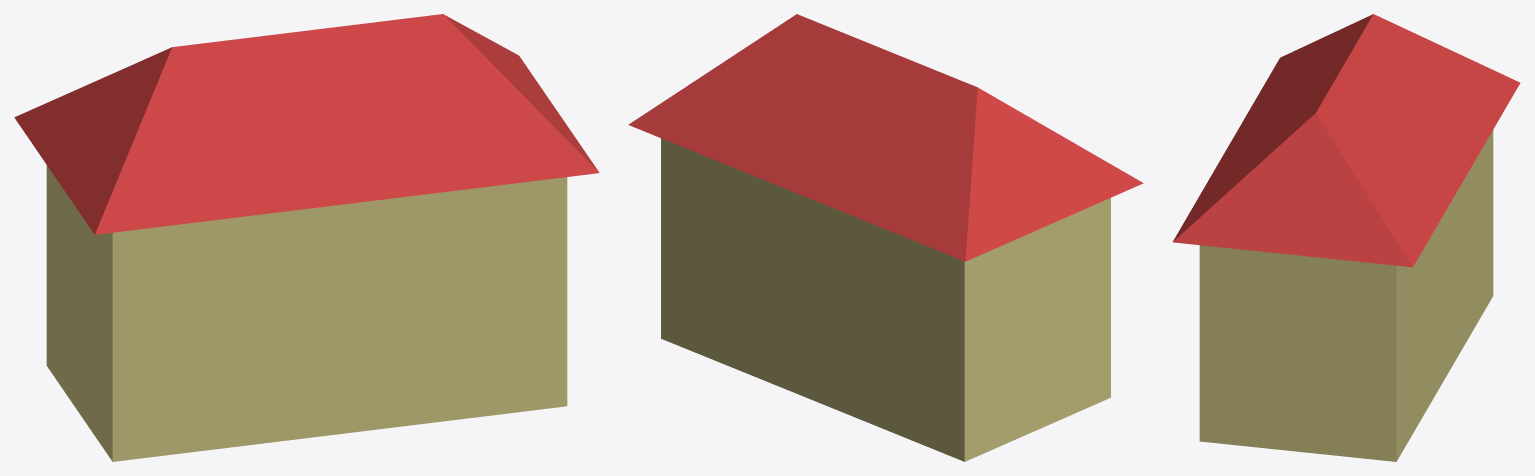
3 renders of one model, left to right at view 1: azimuth 30°, elevation 25°; view 2: azimuth 150°, elevation 25°; view 3: azimuth 270°, elevation 25°, orthographic. The views are drawn at different scales.
Parts seen in each view (by area): view 1: group_5, group_3, group_4; view 2: group_5, group_3, group_4; view 3: group_5, group_3, group_4.
Part boxes in pixels (<box>): group_5: <box>46,165,567,461</box>; group_3: <box>48,14,598,234</box>; group_4: <box>14,47,599,234</box>; group_5: <box>661,138,1110,461</box>; group_3: <box>631,14,1143,261</box>; group_4: <box>628,104,1142,261</box>; group_5: <box>1199,130,1493,461</box>; group_3: <box>1173,14,1492,267</box>; group_4: <box>1173,62,1520,267</box>.
Size of the model in its own units: 22.1 by 15.51 by 14.99.
